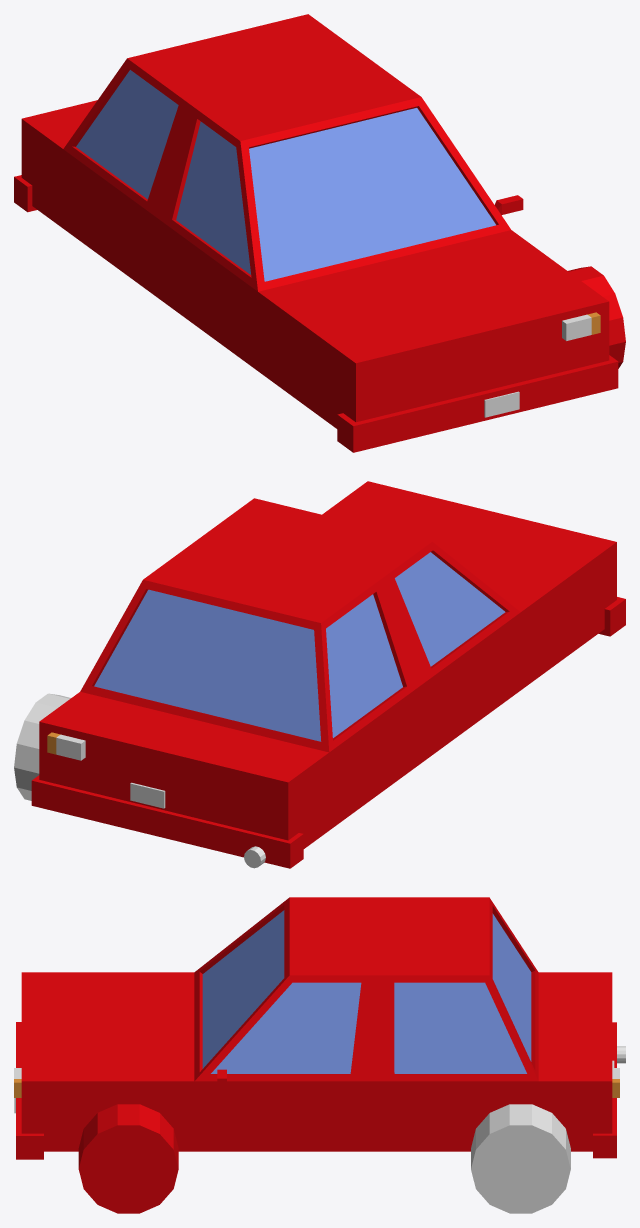
Rendered from car.glb.
3 renders of one model, top to bottom at view 1: azimuth 30°, elevation 25°; view 2: azimuth 150°, elevation 25°; view 3: azimuth 270°, elevation 25°, orthographic. The views are drawn at different scales.
Parts seen in each view (by area): view 1: Body, Wheelhouse_F, Headlights, Licenseplate_F; view 2: Body, Wheelhouse_B, Taillights, Licenseplate_B; view 3: Body, Wheelhouse_F, Wheelhouse_B.
Boxes of the visible parts, x1=… form: Body: x1=14, y1=14, x2=618, y2=452; Wheelhouse_F: x1=568, y1=266, x2=625, y2=368; Headlights: x1=562, y1=312, x2=600, y2=340; Licenseplate_F: x1=484, y1=391, x2=519, y2=417; Body: x1=31, y1=481, x2=625, y2=868; Wheelhouse_B: x1=14, y1=693, x2=70, y2=800; Taillights: x1=47, y1=732, x2=85, y2=760; Licenseplate_B: x1=130, y1=782, x2=165, y2=808; Body: x1=16, y1=897, x2=616, y2=1159; Wheelhouse_F: x1=78, y1=1104, x2=178, y2=1213; Wheelhouse_B: x1=471, y1=1104, x2=570, y2=1213.
Bounding box in the file's own units: 2.43 × 1.72 × 4.74.
